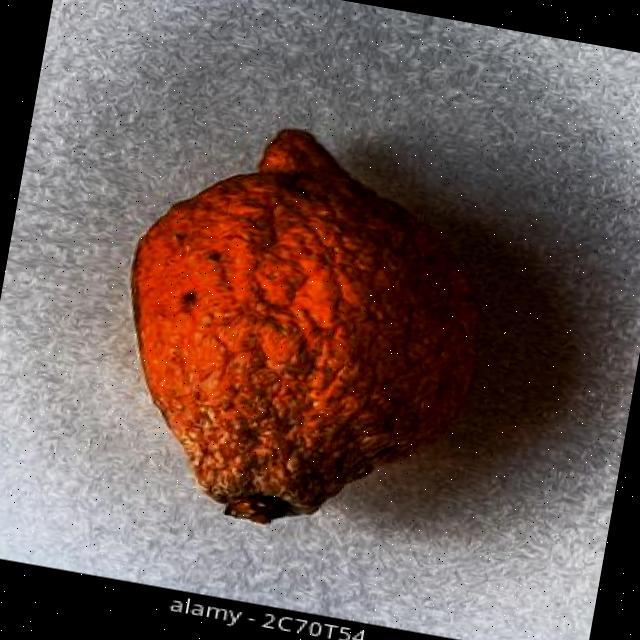Rotten: (87, 98, 520, 556)
